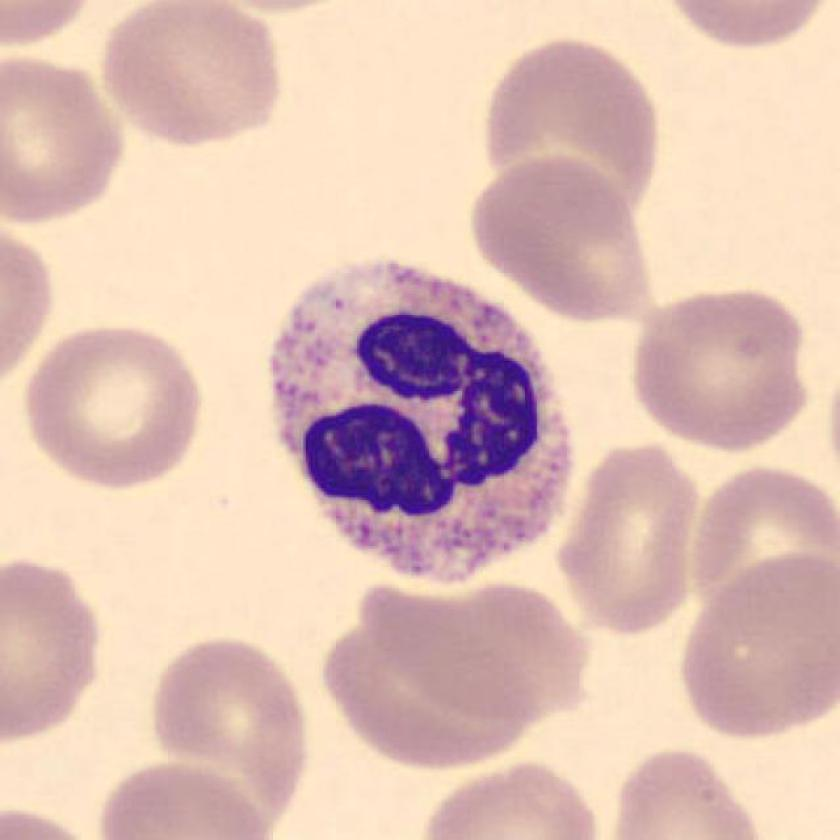neutrophil: (273, 265, 572, 577)
